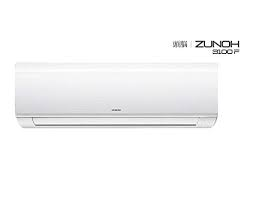ac: (10, 60, 222, 131)
